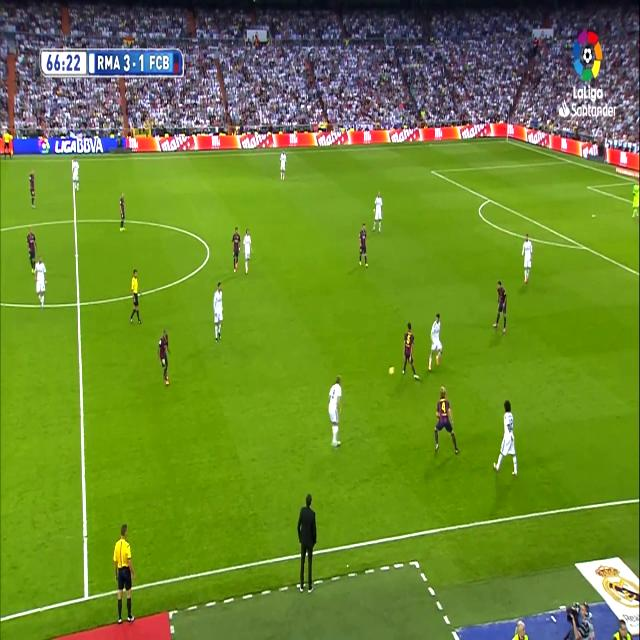corner: (504, 136, 510, 144)
halfcircle_bottom: (73, 292, 84, 315)
halfcircle_top: (70, 212, 80, 230)
midline_bottom_intersection: (79, 586, 94, 608)
top_arc_area_intersection: (485, 191, 493, 205)
